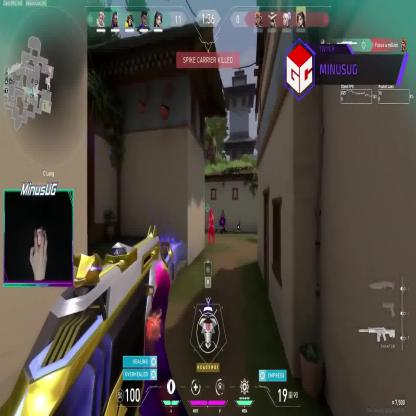enemy: (206, 208, 215, 246)
enemy_head: (209, 209, 213, 216)
